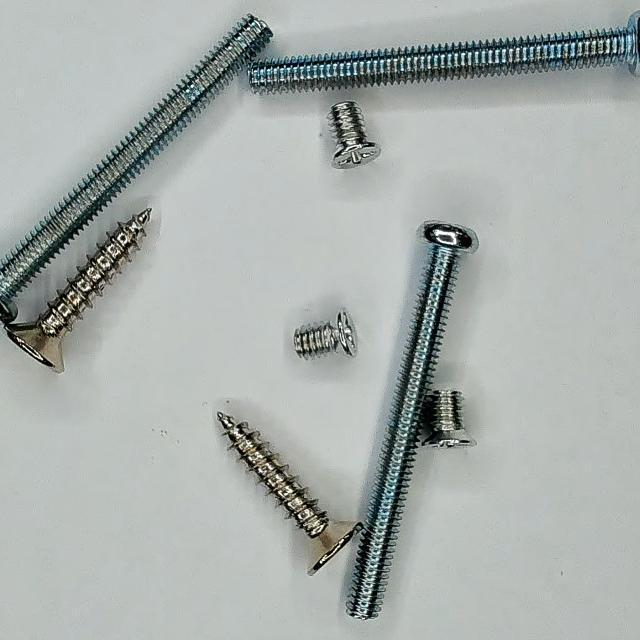Screw: (0, 14, 273, 324), (347, 222, 479, 620), (248, 12, 640, 92), (217, 412, 363, 576), (5, 209, 150, 373), (328, 101, 382, 168), (423, 391, 478, 448), (295, 310, 357, 360)
